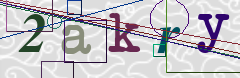2: (17, 13, 46, 54)
a: (60, 23, 91, 56)
k: (107, 11, 140, 53)
r: (157, 26, 182, 54)
y: (196, 13, 230, 54)
